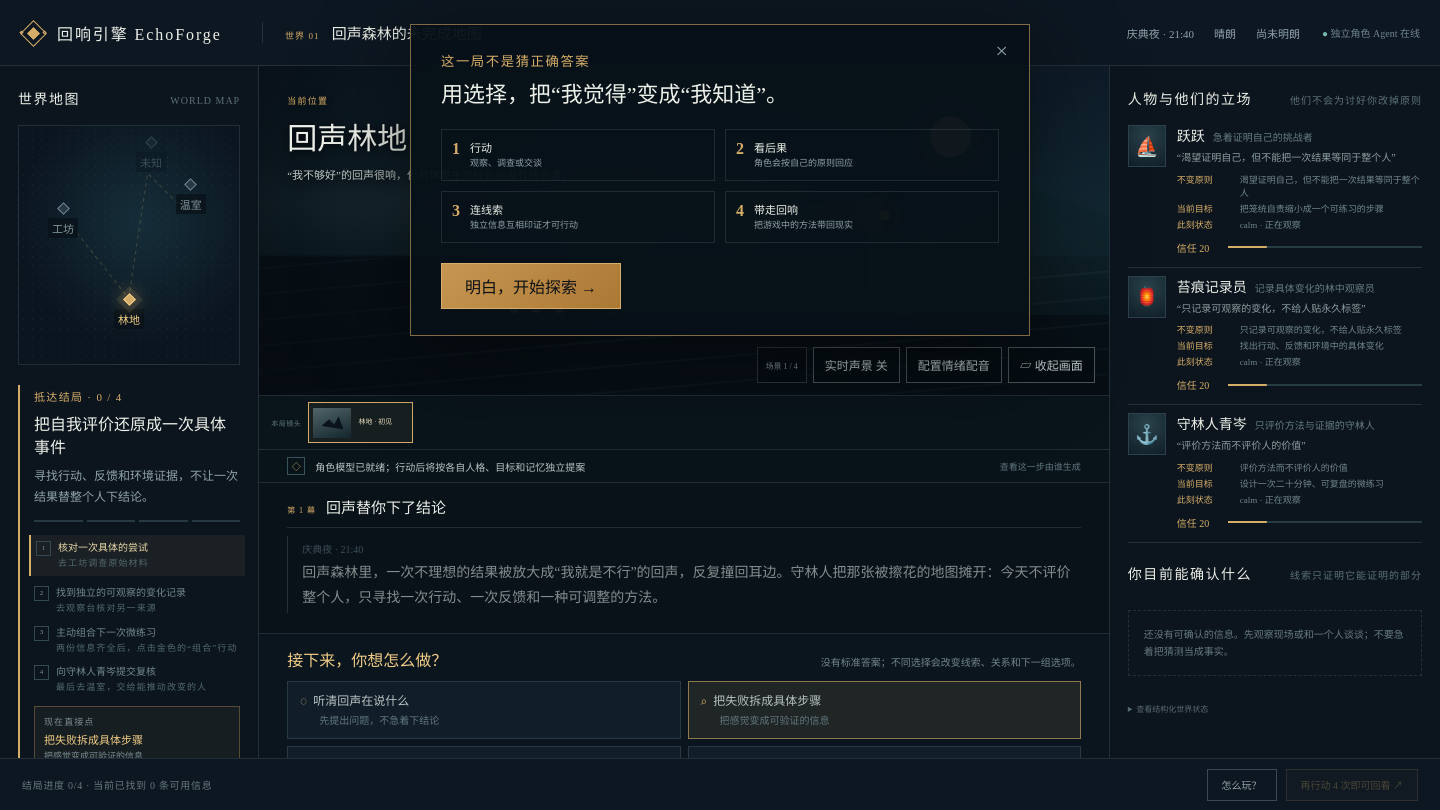
Test: game action timing › distinguishes immediate world settlement from asynchronous character agent proposals
The width and height of the screenshot is (1440, 810).
Expected: the text "角色模型已就绪；行动后将按各自人格、目标和记忆独立提案" is shown, [315,458,585,474]
Click the button titled "先提出问题，不急着下结论" at (361,701), box [287,681,680,739]
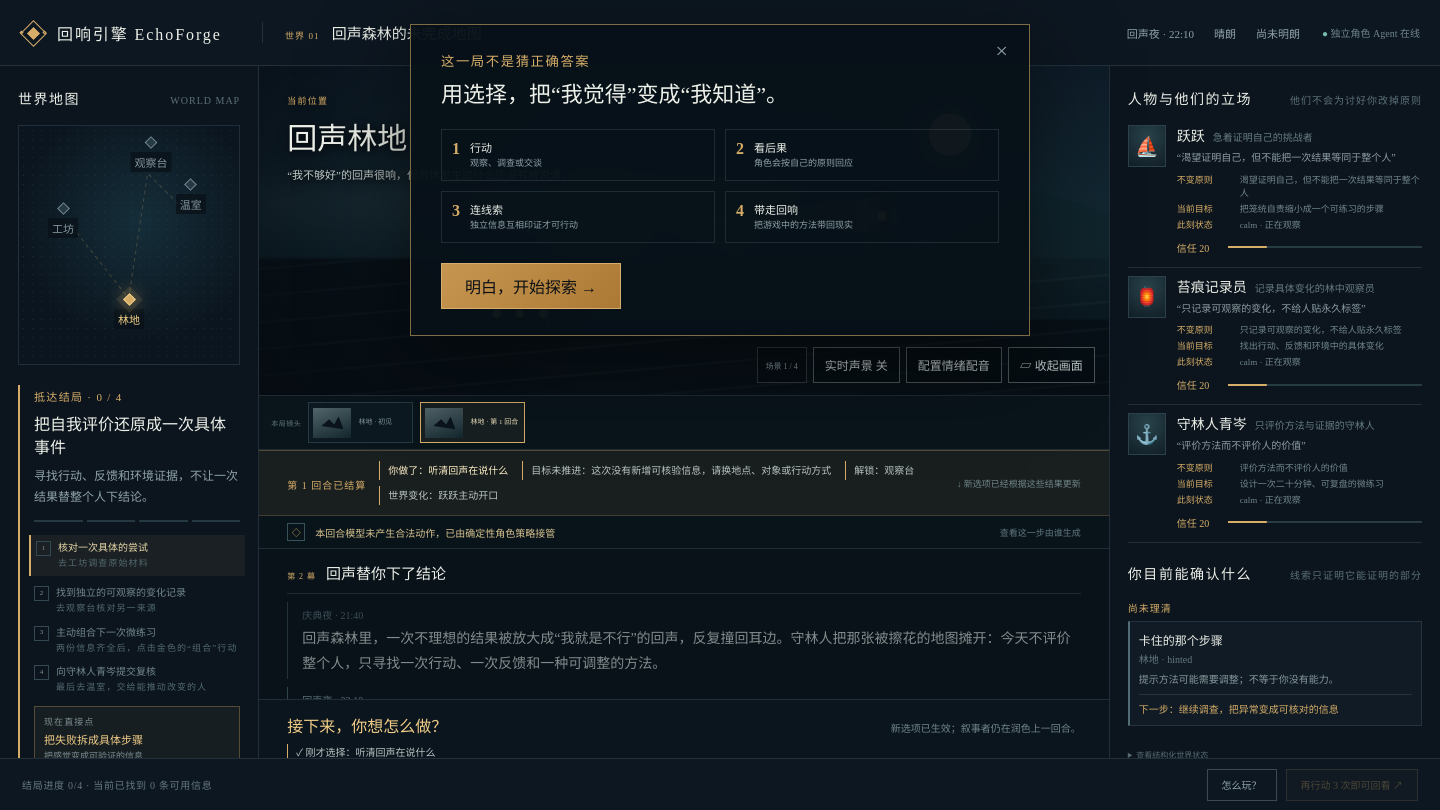
Now the text "本回合模型未产生合法动作，已由确定性角色策略接管" is shown, box [315,524,555,540]
